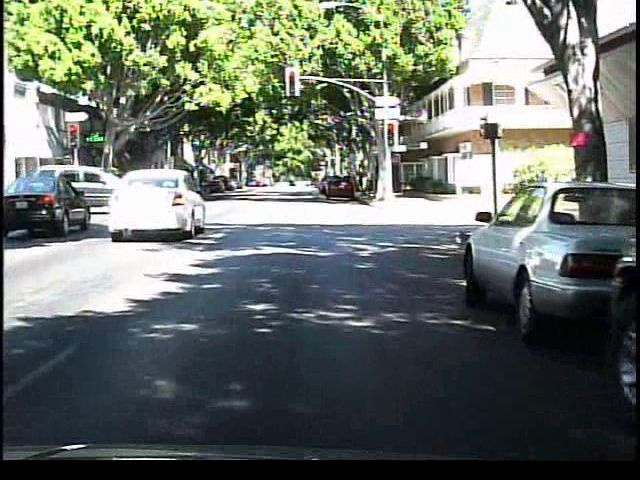person: (77, 164, 102, 208)
